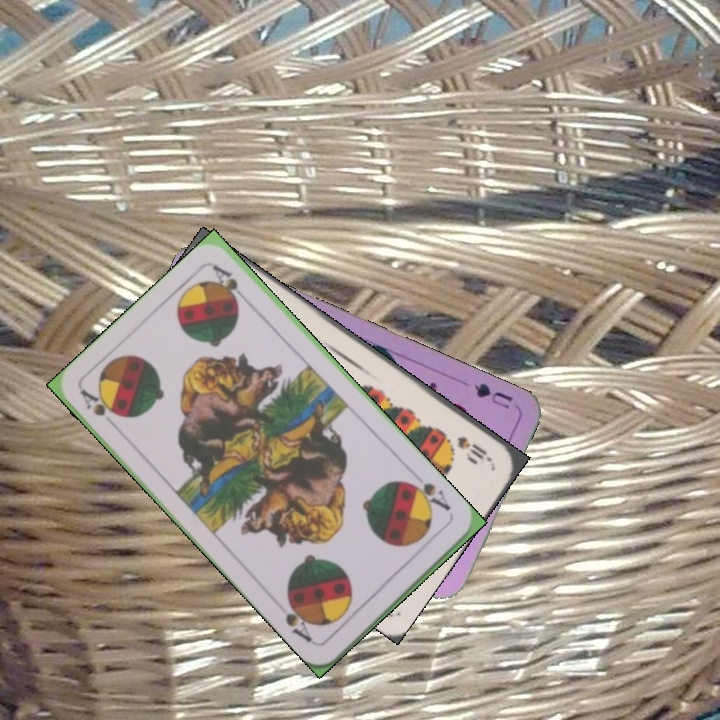GU: (469, 379, 515, 412)
S10: (453, 432, 495, 465)
SA: (76, 385, 123, 433), (405, 471, 454, 514)
